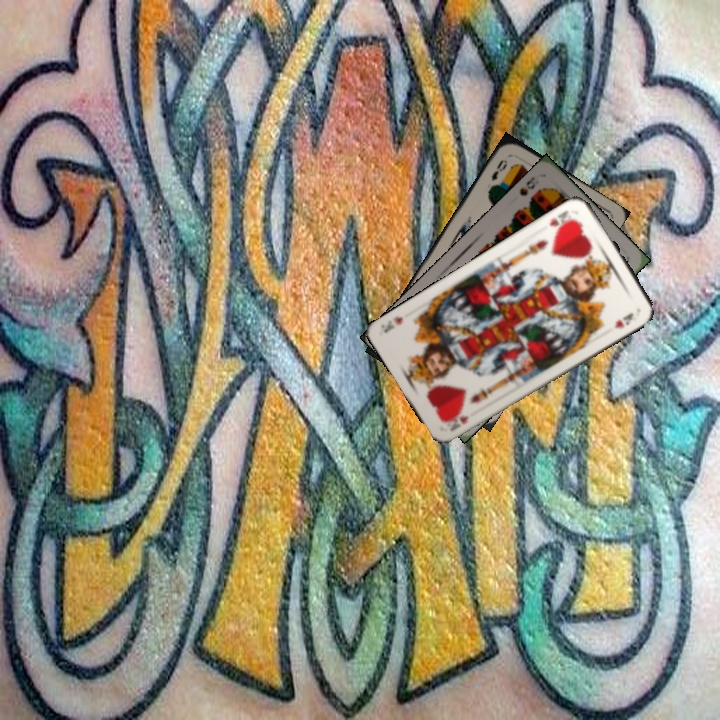EO: (487, 155, 510, 183)
HK: (545, 206, 577, 233), (445, 411, 472, 434)
S8: (516, 172, 538, 199)
